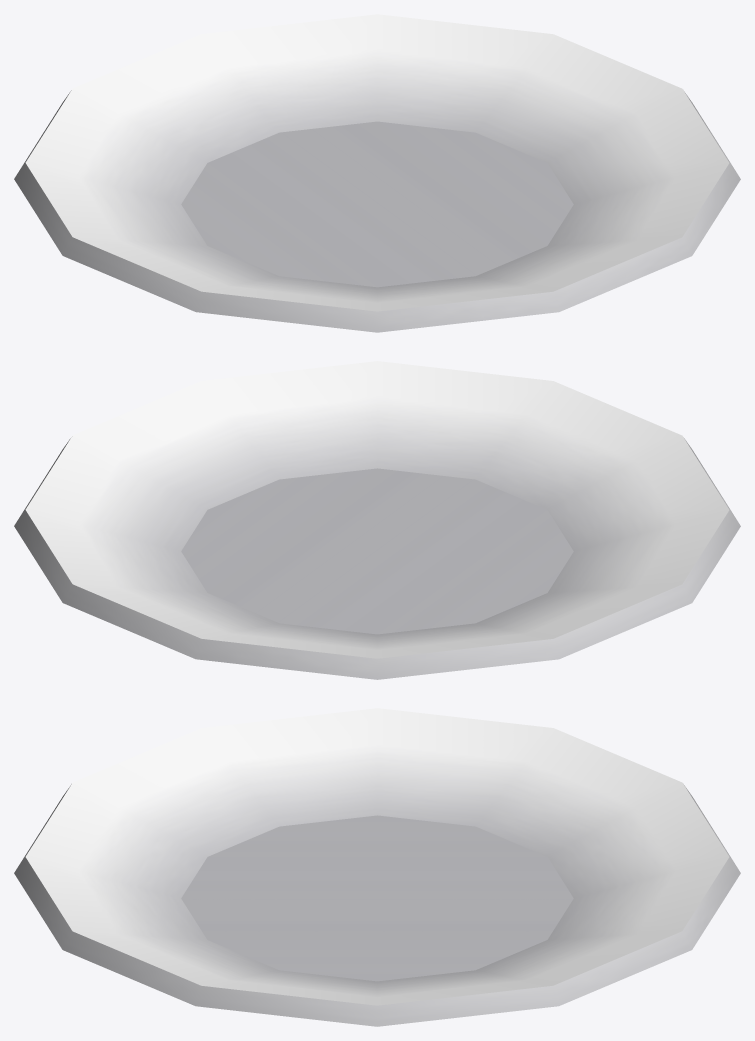
Rendered from m_Plate01.fbx.
3 views of the same model, one above another, from view 1: azimuth 30°, elevation 25°; view 2: azimuth 150°, elevation 25°; view 3: azimuth 270°, elevation 25° (orthographic).
Parts seen in each view (by area): view 1: m_Plate01.001; view 2: m_Plate01.001; view 3: m_Plate01.001.
Part boxes in pixels (x1=…): m_Plate01.001: x1=14, y1=14, x2=740, y2=332; m_Plate01.001: x1=14, y1=361, x2=740, y2=679; m_Plate01.001: x1=14, y1=708, x2=740, y2=1026.
Bounding box in the file's own units: 25.92 × 2.39 × 25.92.
